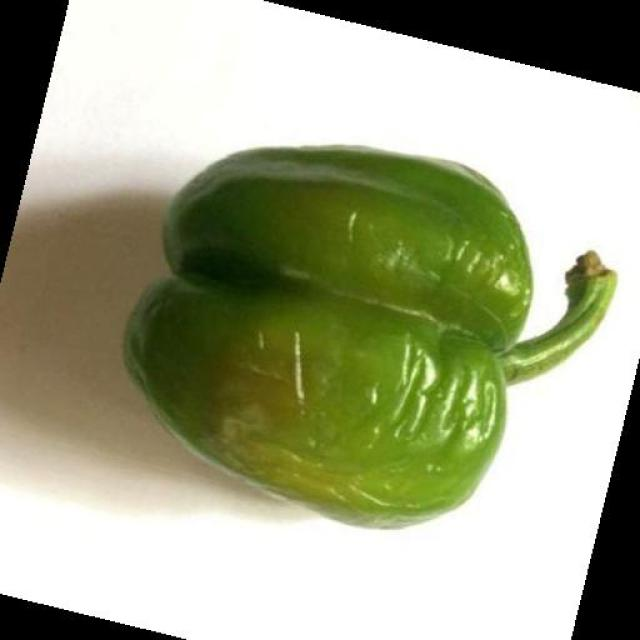Stale_Capsicum: (107, 163, 576, 512)
